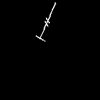treble_crochet: (38, 3, 55, 39)
